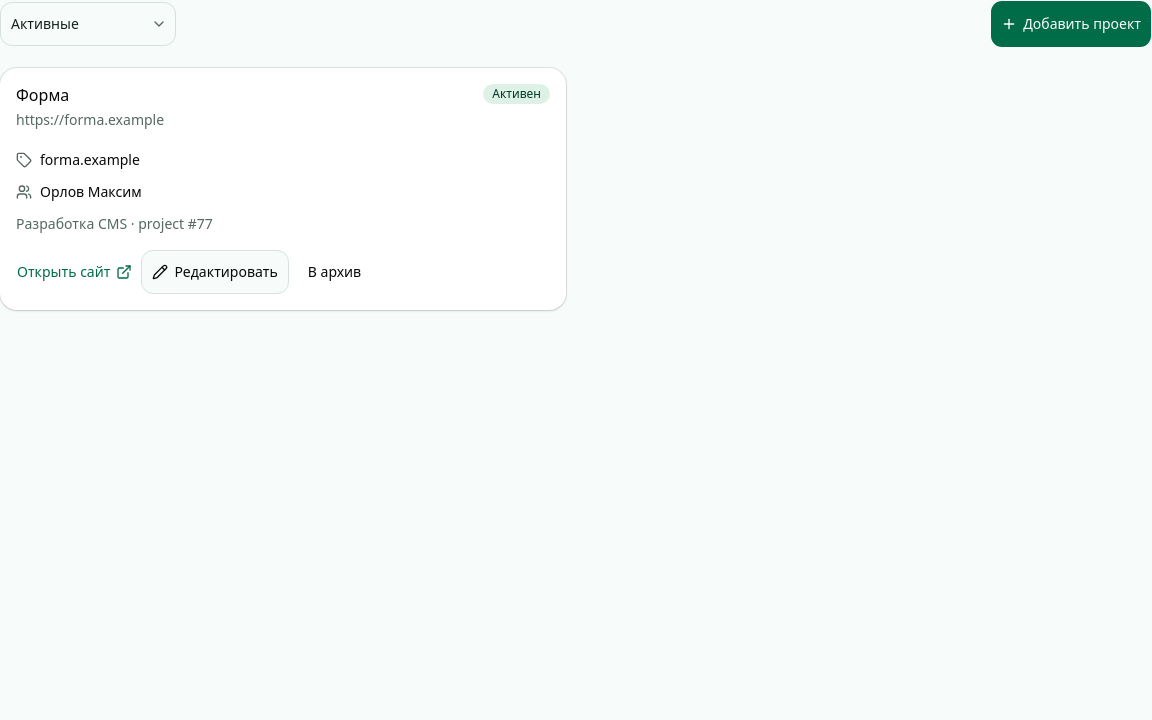
Test: project management › unlocks the form and preserves values when a save request is rejected
Step 1. Click the button "Редактировать" → click(215, 272), box top-left (141, 250), bottom-right (289, 294)
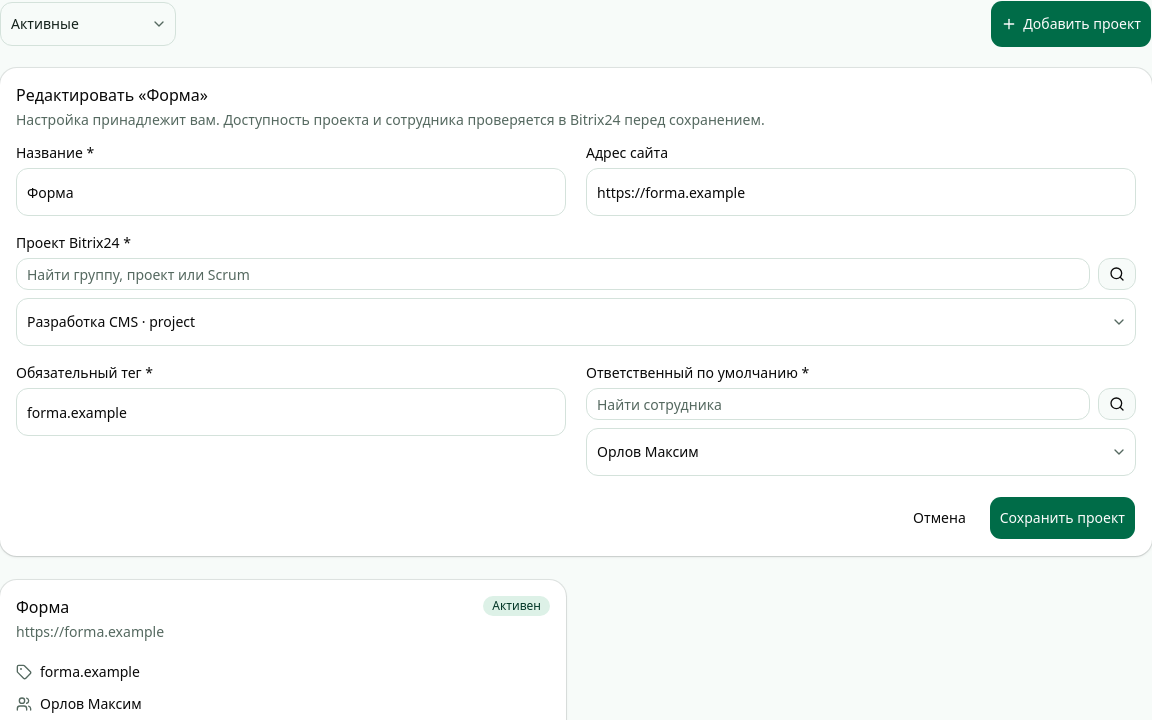
Step 2. Replace the text in the field labelled "Название *" with "Значение после сбоя" → (291, 192), box top-left (16, 168), bottom-right (566, 216)
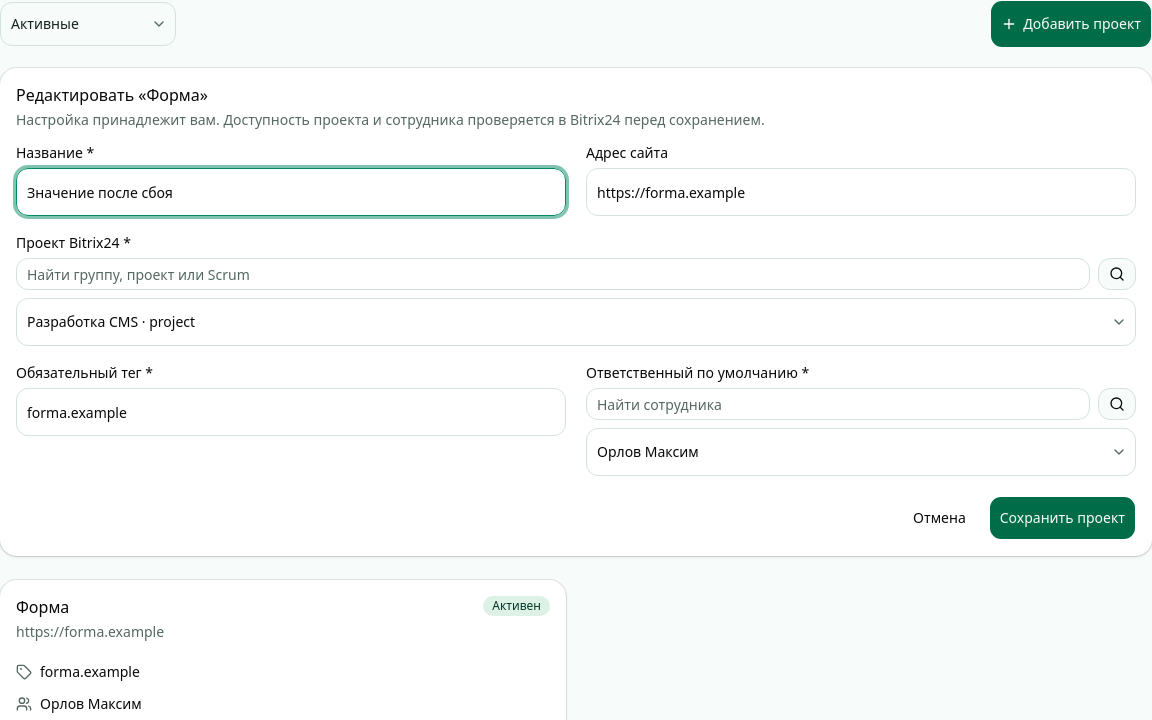
Step 3. Click the button "Сохранить проект" → click(1062, 518), box top-left (989, 496), bottom-right (1136, 540)
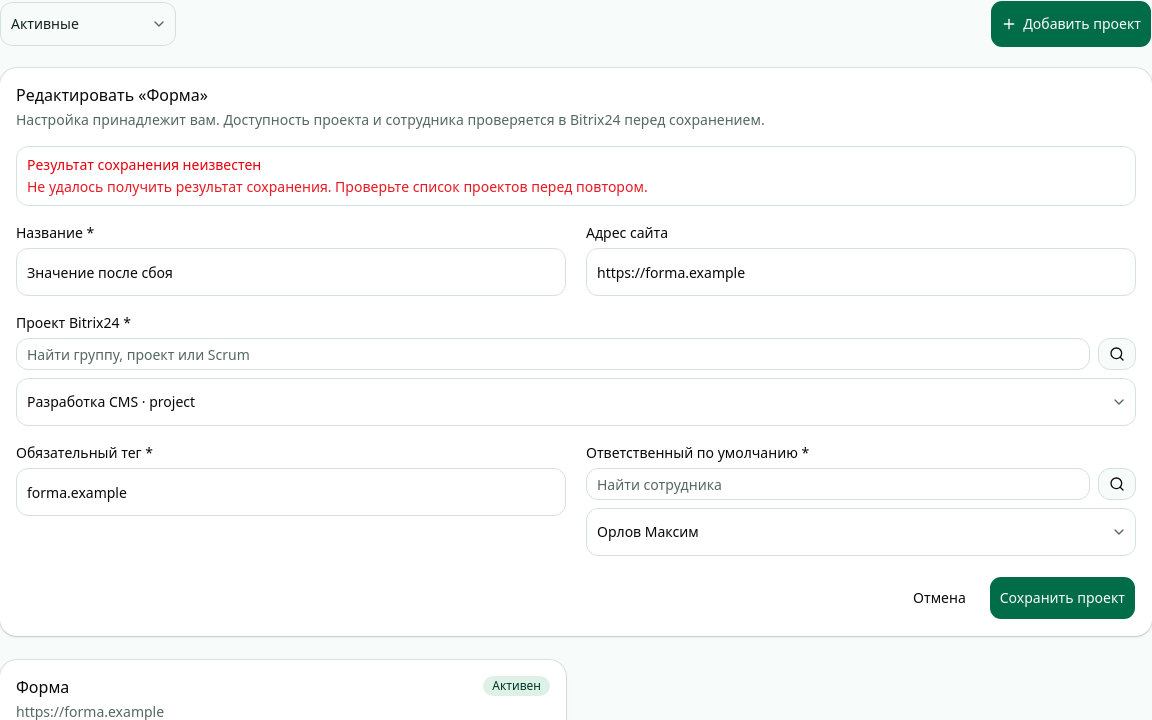
Expected: the button "Сохранить проект" is enabled, top-left (989, 576), bottom-right (1136, 620)
Expected: the text "Результат сохранения неизвестен" is shown, top-left (27, 155), bottom-right (261, 174)
